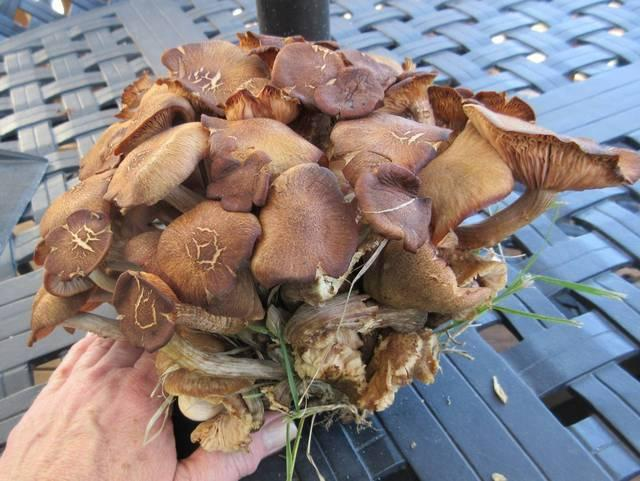Edible Mushroom: (25, 29, 639, 451)
